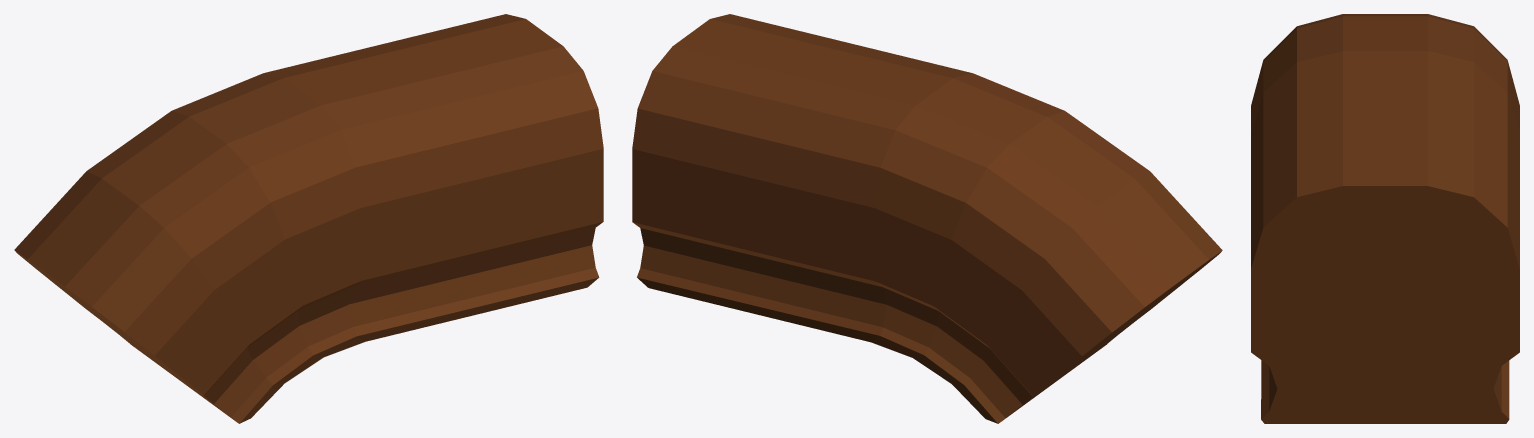
File: Rambarde_escalier_descent.fbx
The picture shows the model from 3 angles, left to right: view 1: azimuth 30°, elevation 25°; view 2: azimuth 150°, elevation 25°; view 3: azimuth 270°, elevation 25°; orthographic projection. The views are drawn at different scales.
Visible parts, largest first — view 1: Rambarde Escalier descent; view 2: Rambarde Escalier descent; view 3: Rambarde Escalier descent.
Part boxes in pixels (x1,y1,x2,y2): Rambarde Escalier descent: (14,14,603,423); Rambarde Escalier descent: (632,14,1222,423); Rambarde Escalier descent: (1251,14,1519,423).
Size of the model in its own units: 66.85 by 33.79 by 27.38.
